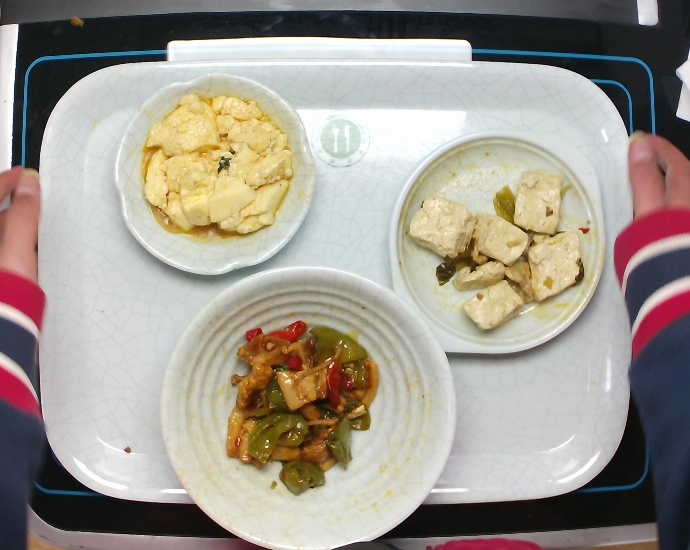JYsf-Ao_Yuan_Wan: (113, 69, 319, 277)
JYsf-Shuang_Er_Pan: (386, 126, 607, 356)
JYsf-Xiao_Tang_Wan: (157, 264, 460, 550)
